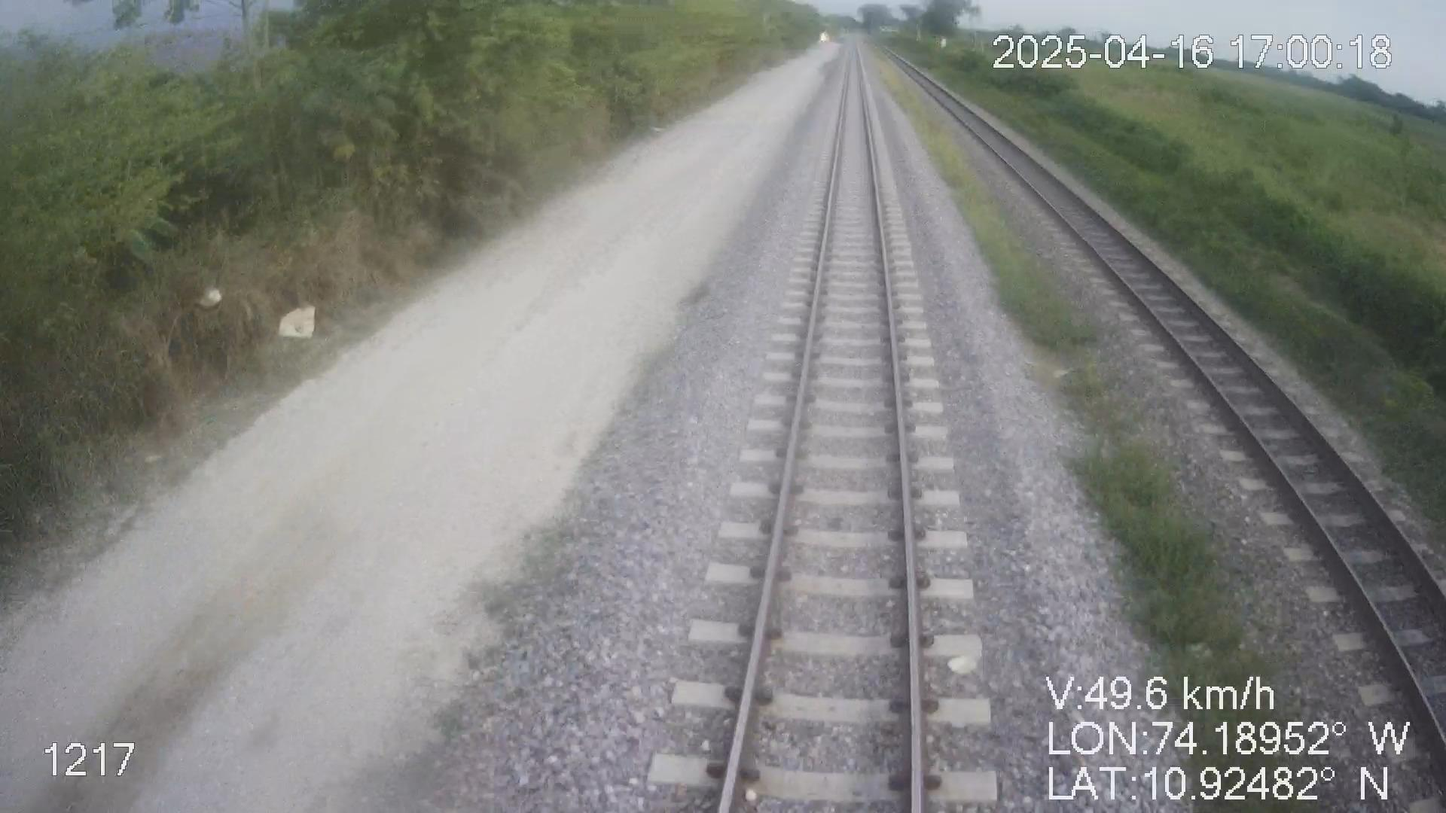Pasto: (0, 0, 828, 654), (865, 9, 1445, 605)
